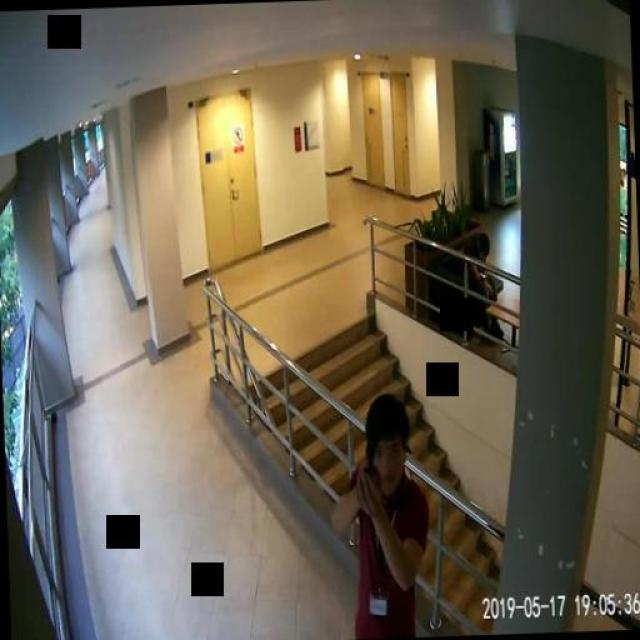gun: (358, 430, 378, 490)
